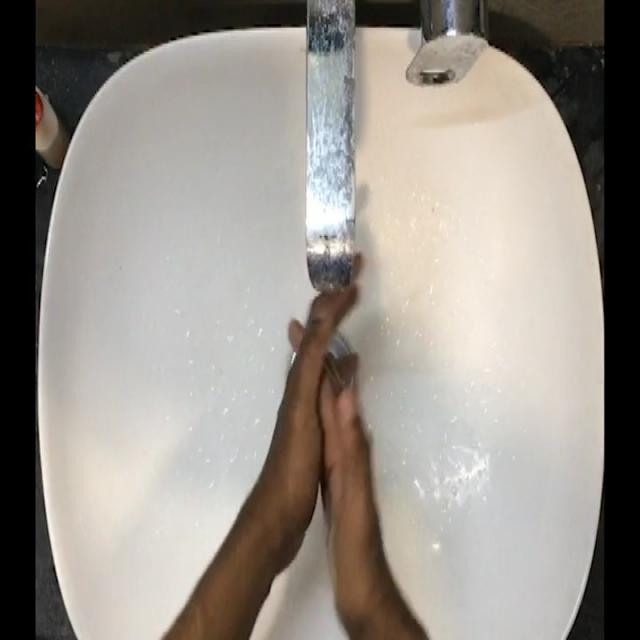step_3: (254, 224, 384, 544)
